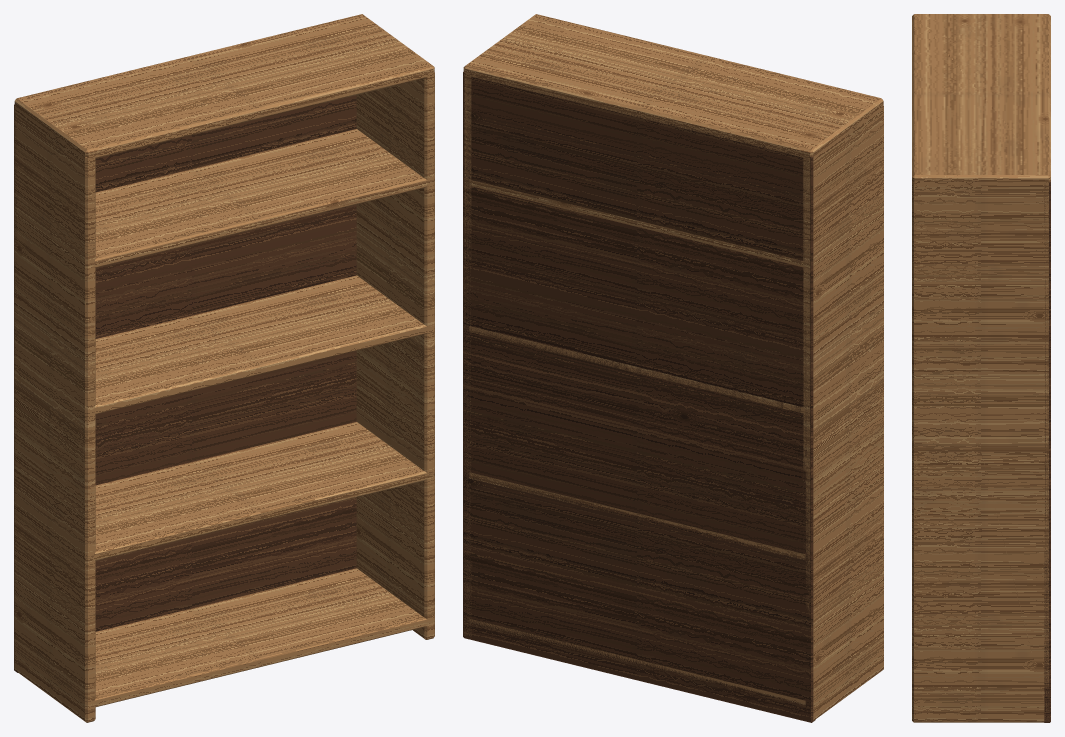
File: shelf_open.glb
3 views of the same model, side by side, from view 1: azimuth 30°, elevation 25°; view 2: azimuth 150°, elevation 25°; view 3: azimuth 270°, elevation 25° (orthographic). The views are drawn at different scales.
Visible parts, largest first — view 1: p; view 2: p; view 3: p.
Boxes of the visible parts, <box> form: p: <box>14,14,434,722</box>; p: <box>463,14,883,722</box>; p: <box>912,14,1050,722</box>.
Bounding box in the file's own units: 1 × 1.56 × 0.36.
Materials: 2 (2 with a texture image).
